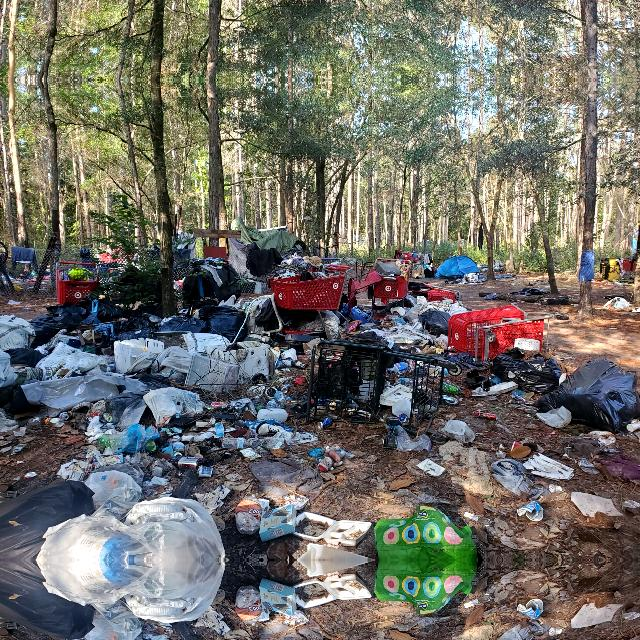Cardboard: (256, 502, 298, 542), (256, 578, 298, 618), (508, 441, 530, 455)
Metal: (472, 410, 498, 420), (317, 415, 331, 429), (144, 437, 156, 453), (395, 413, 409, 422), (280, 386, 288, 394)
Paper: (567, 489, 623, 521), (567, 599, 623, 631), (522, 452, 574, 484), (416, 456, 446, 478), (196, 463, 212, 477)
Plastic: (233, 493, 261, 537), (233, 583, 261, 627), (393, 424, 431, 454), (441, 416, 475, 444), (516, 500, 544, 522), (516, 598, 544, 620), (169, 454, 207, 470), (97, 434, 127, 451), (256, 408, 290, 422), (218, 437, 252, 449), (578, 457, 598, 475), (440, 379, 462, 395), (239, 447, 261, 459), (394, 374, 416, 386), (386, 361, 408, 373), (169, 438, 185, 452), (625, 418, 639, 432), (338, 446, 354, 458), (307, 447, 323, 458), (210, 400, 228, 408), (549, 482, 561, 492), (549, 628, 561, 638)
Styrofoam: (296, 506, 372, 550), (296, 570, 372, 614)
